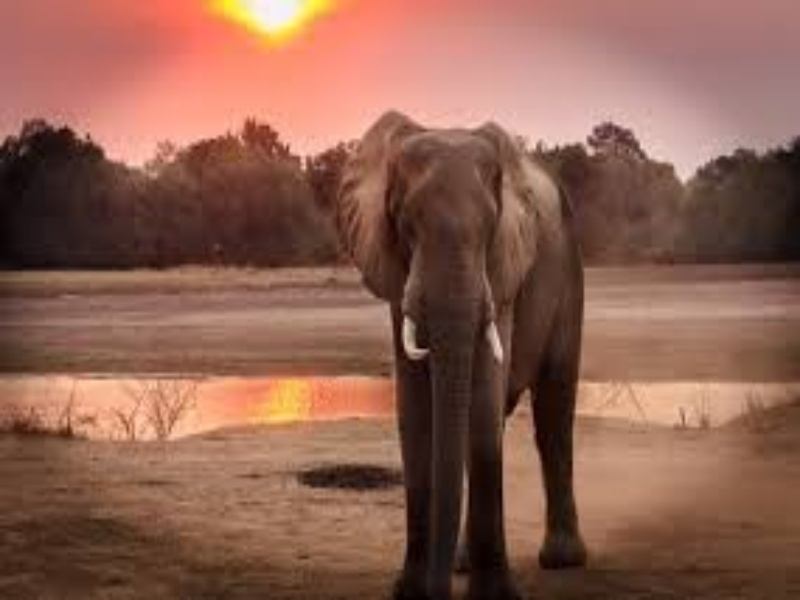elephant: (285, 71, 635, 598)
